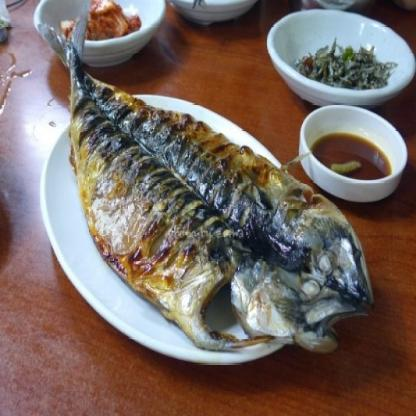Peixe: (39, 22, 377, 367)
